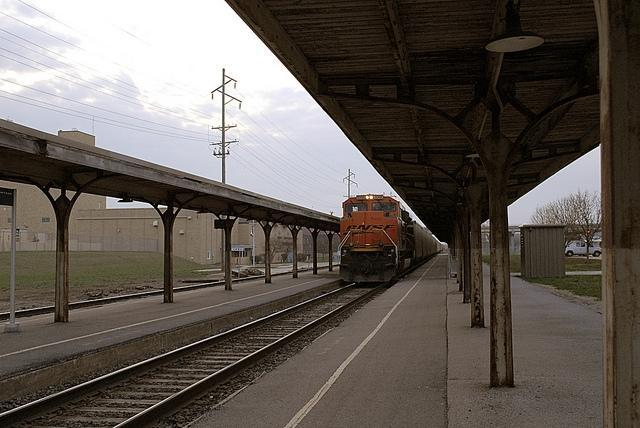car: (564, 241, 602, 257)
